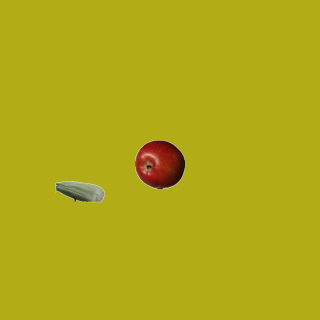Apple Braeburn: (134, 139, 184, 189)
Corn Husk: (54, 166, 104, 216)
